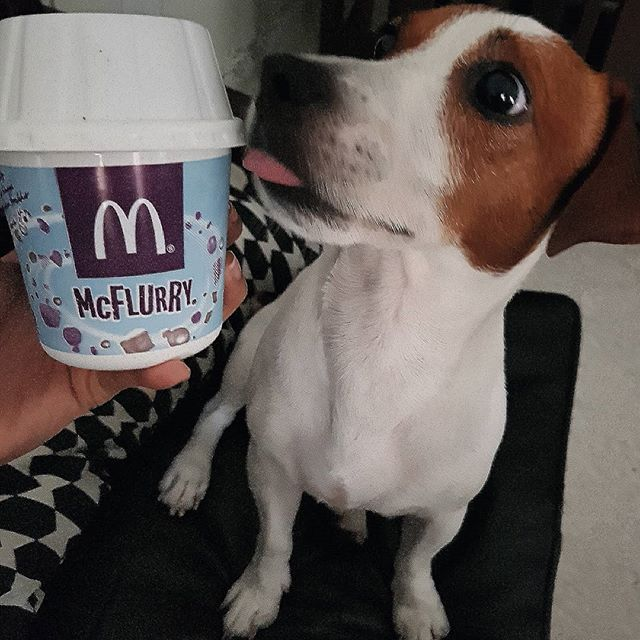mcdonalds: (80, 190, 172, 267)
